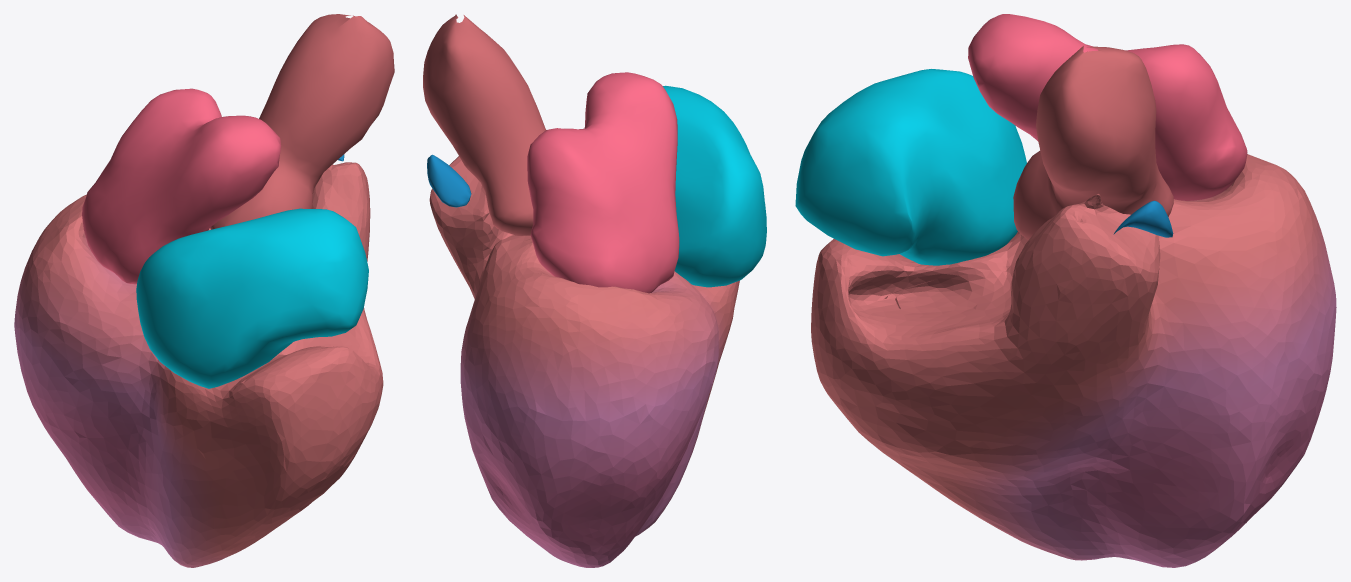
File: frame_23.glb
3 views of the same model, side by side, from view 1: azimuth 30°, elevation 25°; view 2: azimuth 150°, elevation 25°; view 3: azimuth 270°, elevation 25° (orthographic). The views are drawn at different scales.
Parts seen in each view (by area): view 1: Renderer Node; view 2: Renderer Node; view 3: Renderer Node.
Part boxes in pixels (box(x1,y1,x2,y2)): Renderer Node: box(14, 14, 394, 567); Renderer Node: box(423, 14, 766, 567); Renderer Node: box(795, 14, 1336, 567).
Size of the model in its own units: 101 by 153 by 122.
